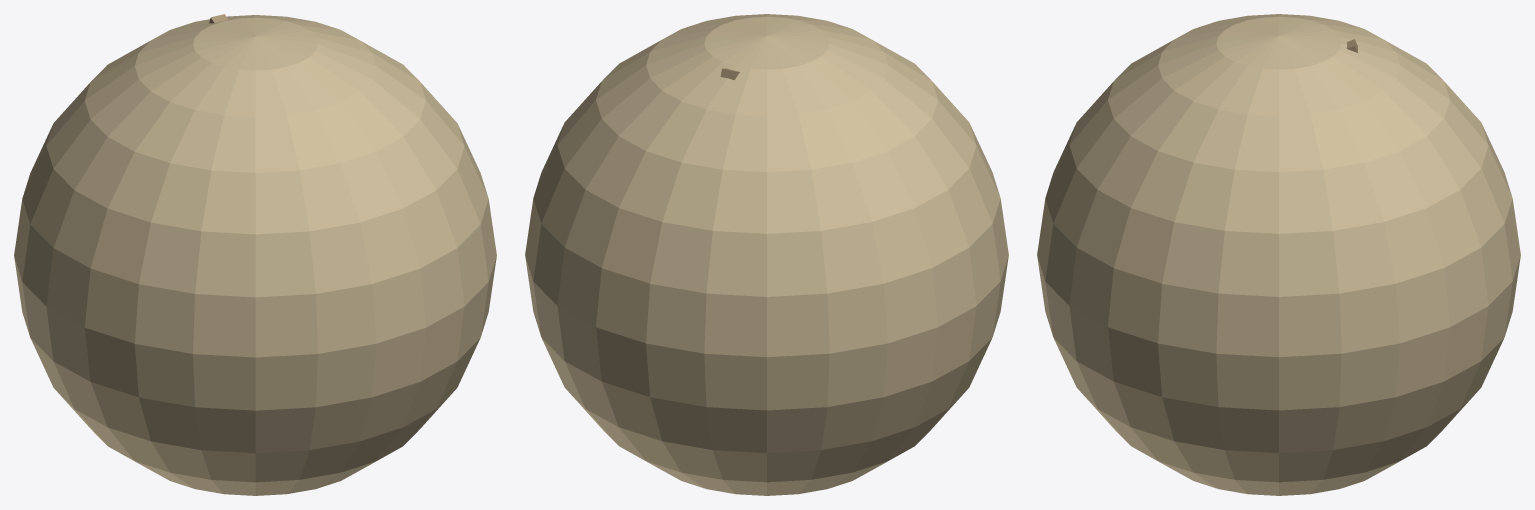
The model's file is GrainSack.fbx.
3 renders of one model, left to right at view 1: azimuth 30°, elevation 25°; view 2: azimuth 150°, elevation 25°; view 3: azimuth 270°, elevation 25°, orthographic.
Visible parts, largest first — view 1: GrainSack; view 2: GrainSack; view 3: GrainSack.
Boxes of the visible parts, left/top/right/bottom form: GrainSack: left=14, top=14, right=496, bottom=495; GrainSack: left=525, top=14, right=1008, bottom=495; GrainSack: left=1037, top=14, right=1520, bottom=495.
Size of the model in its own units: 60 by 60 by 60.
